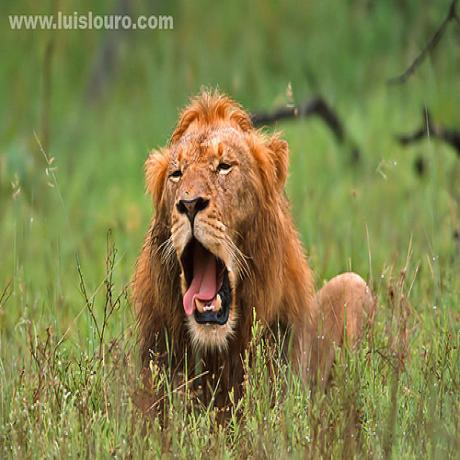Lion: (127, 77, 376, 406)
